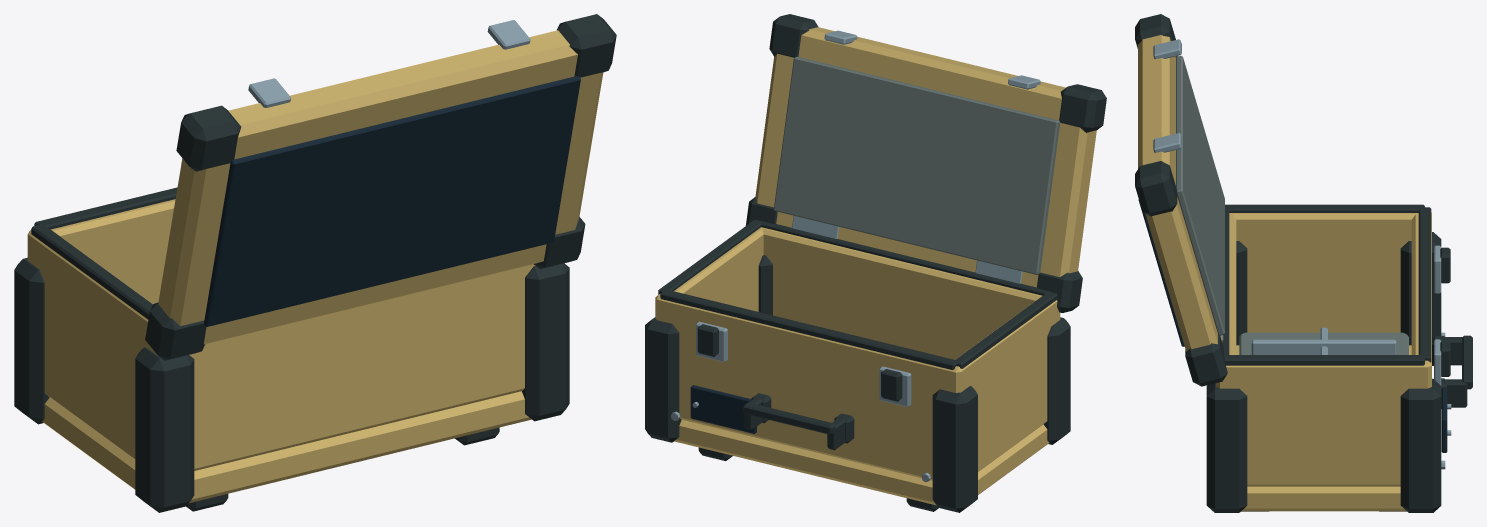
The model's file is industrial_tool_chest_opened.glb.
3 renders of one model, left to right at view 1: azimuth 30°, elevation 25°; view 2: azimuth 150°, elevation 25°; view 3: azimuth 270°, elevation 25°, orthographic. The views are drawn at different scales.
Parts seen in each view (by area): view 1: moving_lid_inset, body_back_wall, moving_lid_shell, corner_guard (×3), body_left_wall, body_floor, moving_lid_corner (×4), body_front_wall, gasket_side, moving_latch_hook (×2), gasket_front; view 2: moving_lid_inner_pad, body_front_wall, body_back_wall, moving_lid_shell, corner_guard (×4), body_left_wall, body_floor, moving_lid_corner (×4), body_right_wall, gasket_front, gasket_side (×2), gasket_back (+5 smaller); view 3: body_right_wall, body_left_wall, corner_guard (×4), moving_lid_shell, moving_lid_inner_pad, moving_lid_corner (×3), body_floor, gasket_side (×2), tray_partition, gasket_front, interior_lining, body_front_wall (+7 smaller).
Part boxes in pixels (x1,y1,x2,y2): moving_lid_inset: [204, 76, 580, 326]; body_back_wall: [150, 264, 535, 470]; moving_lid_shell: [158, 30, 603, 344]; corner_guard (×3): [14, 257, 569, 512]; body_left_wall: [27, 229, 157, 459]; body_floor: [42, 391, 531, 502]; moving_lid_corner (×4): [145, 14, 616, 360]; body_front_wall: [28, 199, 175, 303]; gasket_side: [31, 224, 152, 319]; moving_latch_hook (×2): [248, 20, 530, 107]; gasket_front: [34, 187, 177, 229]; moving_lid_inner_pad: [774, 56, 1060, 274]; body_front_wall: [657, 294, 966, 480]; body_back_wall: [760, 227, 1060, 359]; moving_lid_shell: [755, 27, 1096, 287]; corner_guard (×4): [645, 255, 1070, 512]; body_left_wall: [945, 298, 1059, 471]; body_floor: [674, 419, 1049, 505]; moving_lid_corner (×4): [746, 14, 1106, 312]; body_right_wall: [655, 227, 763, 322]; gasket_front: [660, 289, 956, 369]; gasket_side (×2): [658, 219, 1057, 368]; gasket_back: [759, 221, 1050, 295]; body_right_wall: [1216, 360, 1431, 486]; body_left_wall: [1229, 212, 1431, 332]; corner_guard (×4): [1206, 232, 1441, 512]; moving_lid_shell: [1138, 35, 1222, 351]; moving_lid_inner_pad: [1176, 56, 1224, 335]; moving_lid_corner (×3): [1135, 14, 1227, 386]; body_floor: [1236, 345, 1411, 511]; gasket_side (×2): [1224, 204, 1424, 365]; tray_partition: [1251, 339, 1396, 354]; gasket_front: [1418, 207, 1431, 362]; interior_lining: [1239, 332, 1408, 354]; body_front_wall: [1411, 214, 1431, 388].
Size of the model in its own units: 1.25 by 1.28 by 1.08.
